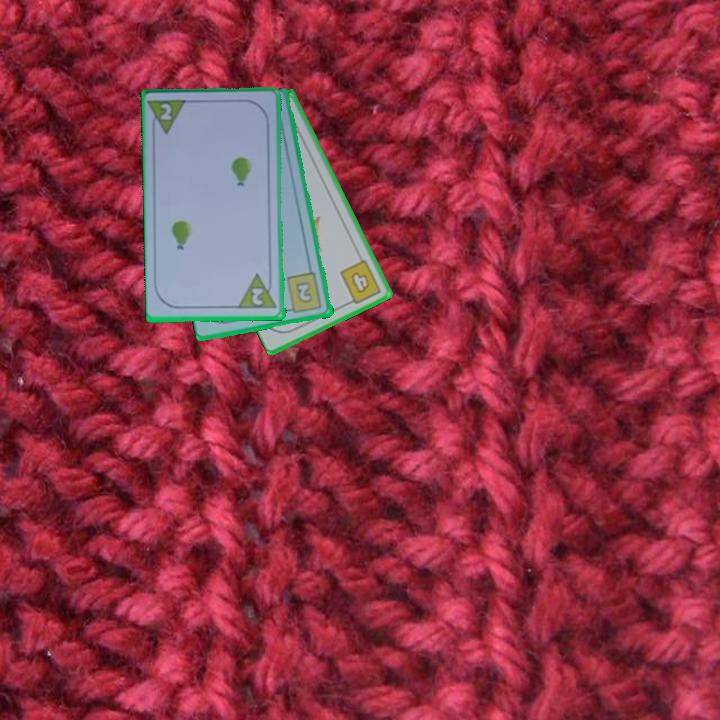2b: (283, 269, 325, 316)
2p: (146, 96, 191, 138), (236, 271, 280, 312)
4b: (336, 256, 384, 308)
